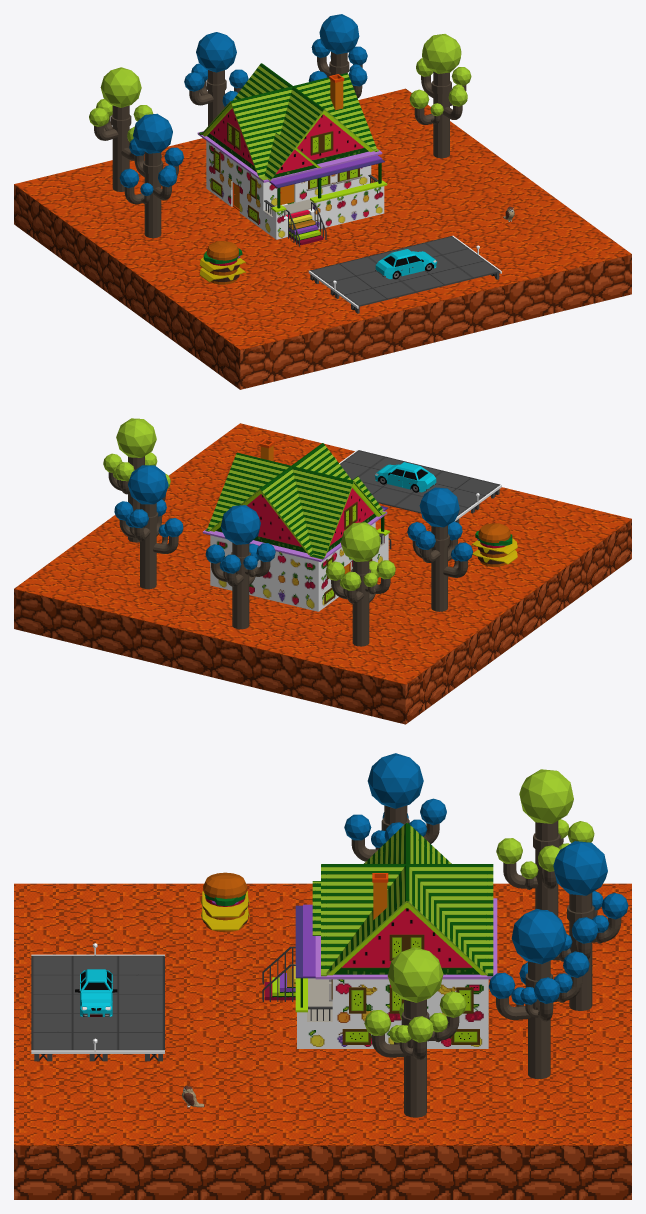
The picture shows the model from 3 angles, top to bottom: view 1: azimuth 30°, elevation 25°; view 2: azimuth 150°, elevation 25°; view 3: azimuth 270°, elevation 25°; orthographic projection. The views are drawn at different scales.
Parts seen in each view (by area): view 1: Cube.001, Cube.1063, OBJRANDOM_HAMBURGER, VEHICLES_CAR; view 2: Cube.001, Cube.1063, OBJRANDOM_HAMBURGER, VEHICLES_CAR; view 3: Cube.001, Cube.1063, OBJRANDOM_HAMBURGER, VEHICLES_CAR.
Part boxes in pixels (x1,y1,x2,y2): Cube.001: (14, 14, 631, 389); Cube.1063: (197, 63, 387, 246); OBJRANDOM_HAMBURGER: (199, 241, 245, 284); VEHICLES_CAR: (375, 249, 436, 279); Cube.001: (14, 418, 631, 724); Cube.1063: (202, 439, 391, 611); OBJRANDOM_HAMBURGER: (471, 523, 517, 566); VEHICLES_CAR: (374, 462, 436, 492); Cube.001: (14, 753, 631, 1199); Cube.1063: (262, 823, 497, 1048); OBJRANDOM_HAMBURGER: (201, 872, 249, 932); VEHICLES_CAR: (75, 969, 117, 1016).
Size of the model in its own units: 4000 by 1663 by 4000.
38 materials, 6 textured.
